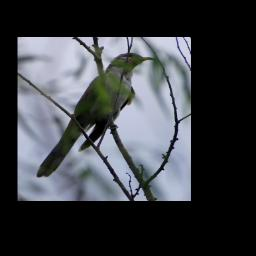Cuckoo: (30, 52, 153, 179)
